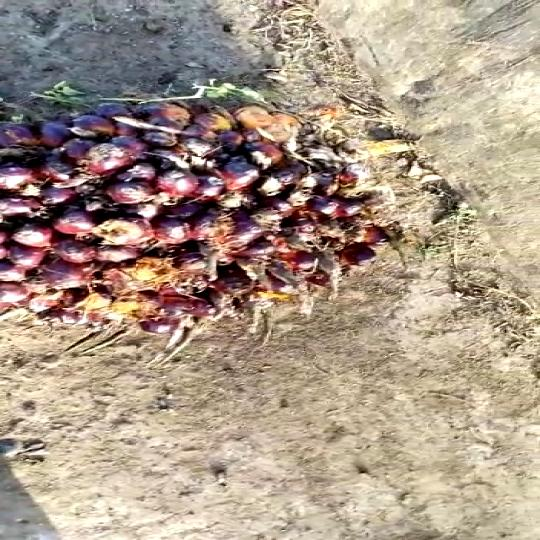kurang masak: (0, 66, 412, 358)
